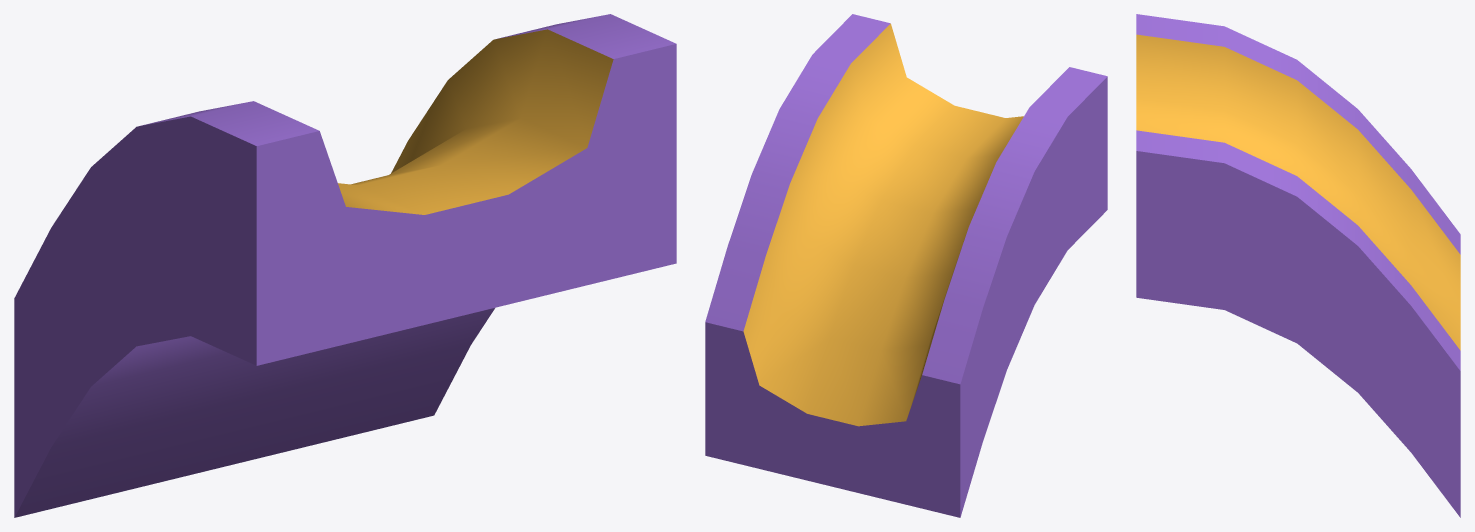
File: kenney-marble-ramp-end-d.glb
3 views of the same model, side by side, from view 1: azimuth 30°, elevation 25°; view 2: azimuth 150°, elevation 25°; view 3: azimuth 270°, elevation 25° (orthographic). The views are drawn at different scales.
Visible parts, largest first — view 1: ramp-end-d; view 2: ramp-end-d; view 3: ramp-end-d.
Part boxes in pixels (x1,y1,x2,y2): ramp-end-d: [14, 14, 676, 517]; ramp-end-d: [705, 14, 1107, 517]; ramp-end-d: [1136, 14, 1460, 517].
Bounding box in the file's own units: 1 × 1.25 × 1.
1 material, 1 textured.
